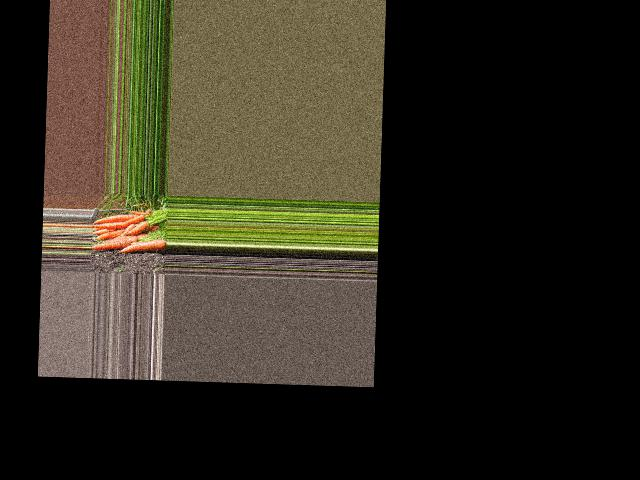carrot: (91, 213, 146, 229)
